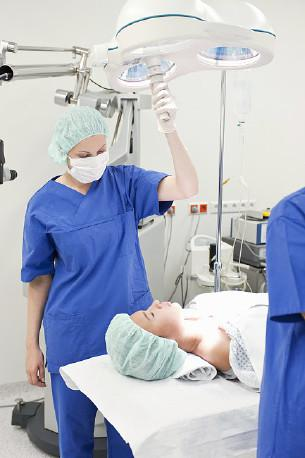NONE: (136, 300, 184, 332)
OK: (71, 142, 113, 184)
